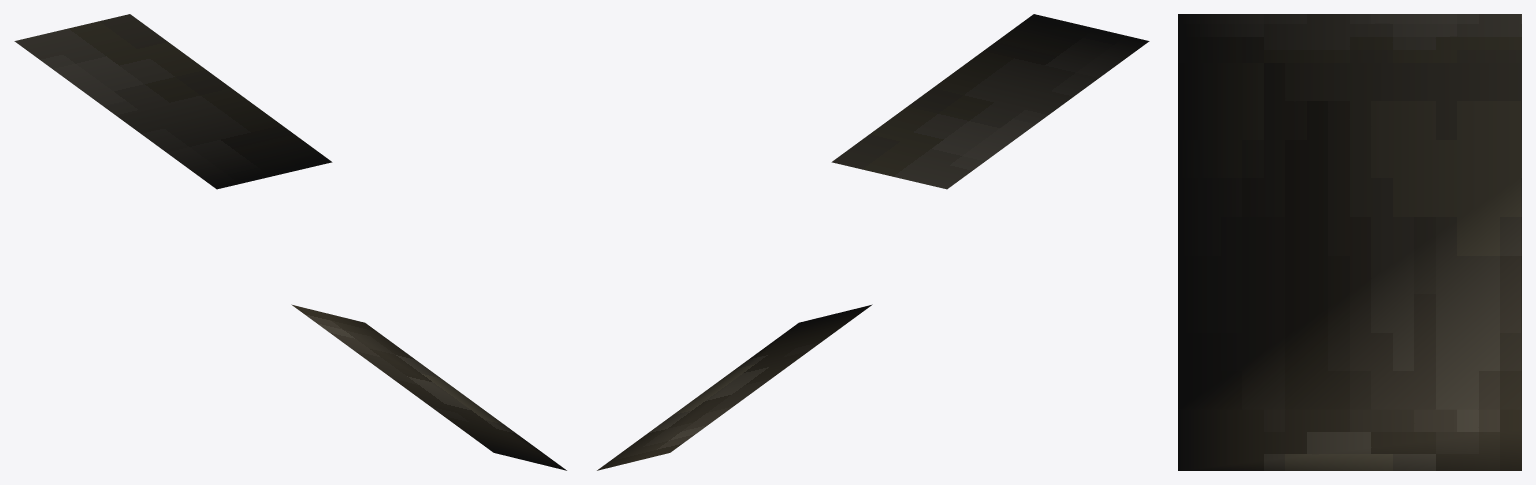
3 renders of one model, left to right at view 1: azimuth 30°, elevation 25°; view 2: azimuth 150°, elevation 25°; view 3: azimuth 270°, elevation 25°, orthographic. The views are drawn at different scales.
Size of the model in its own units: 1 by 1 by 1.
1 material, 1 textured.
